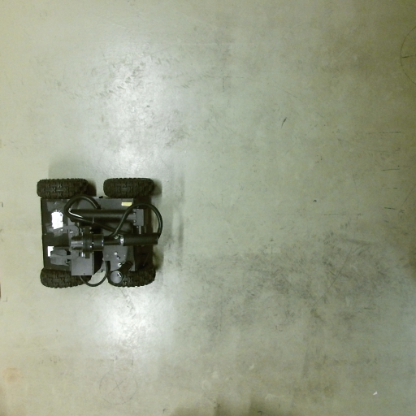Jaguar: (34, 177, 158, 289)
